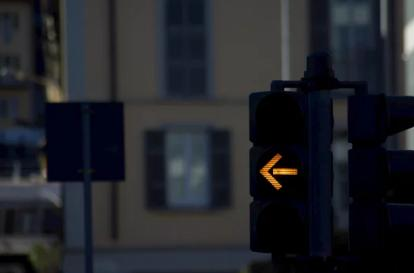yellow_light: (248, 91, 312, 253)
